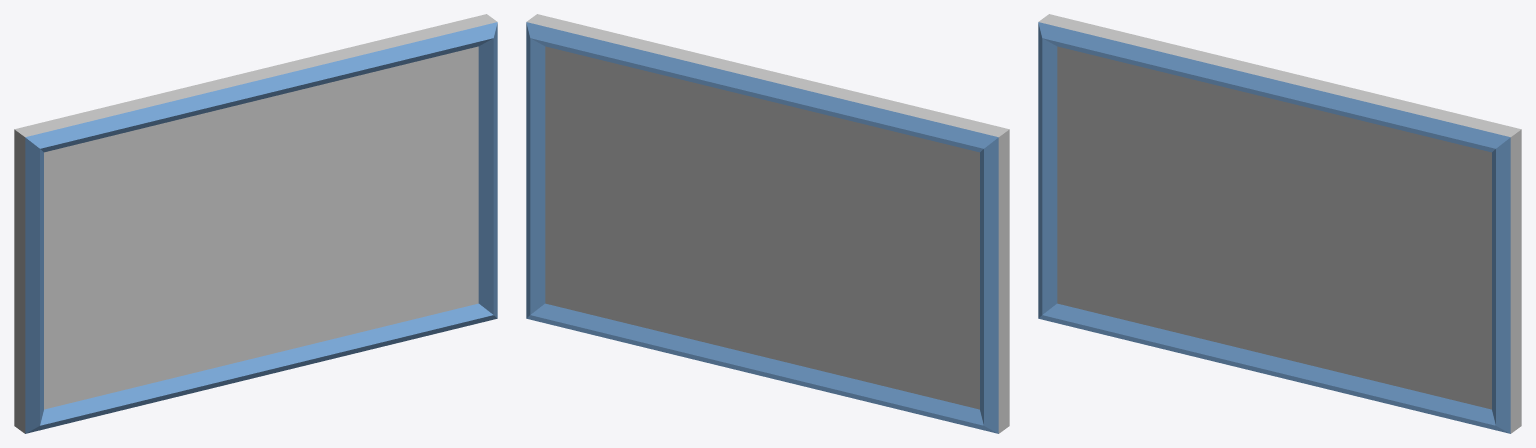
File: LPWall1.fbx
3 views of the same model, side by side, from view 1: azimuth 30°, elevation 25°; view 2: azimuth 150°, elevation 25°; view 3: azimuth 330°, elevation 25° (orthographic).
Visible parts, largest first — view 1: Plane; view 2: Plane; view 3: Plane.
Boxes of the visible parts, x1=… form: Plane: x1=14, y1=14, x2=497, y2=433; Plane: x1=526, y1=14, x2=1009, y2=433; Plane: x1=1038, y1=14, x2=1521, y2=433.
Size of the model in its own units: 500 by 40 by 300.
